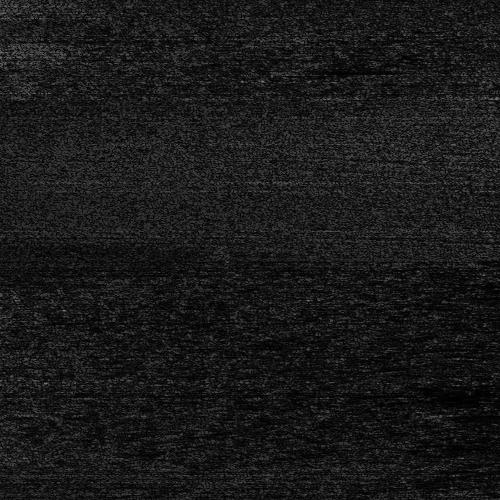rock: (273, 67, 314, 72)
shadow: (294, 67, 404, 72)
